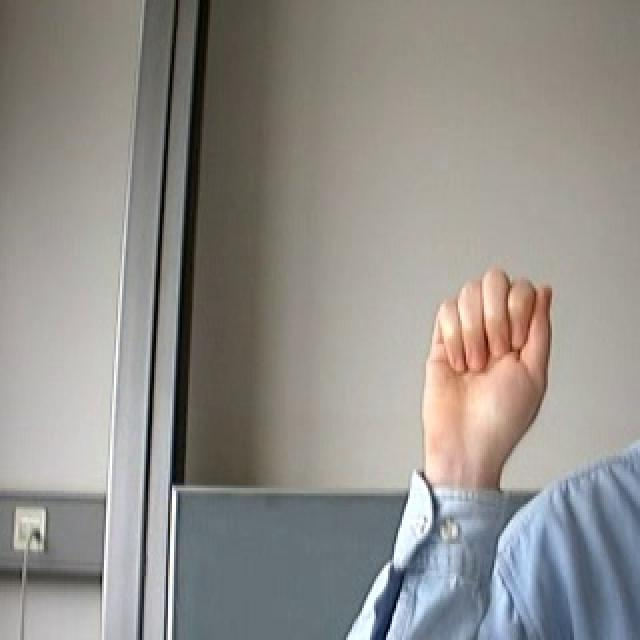A: (411, 261, 565, 465)
